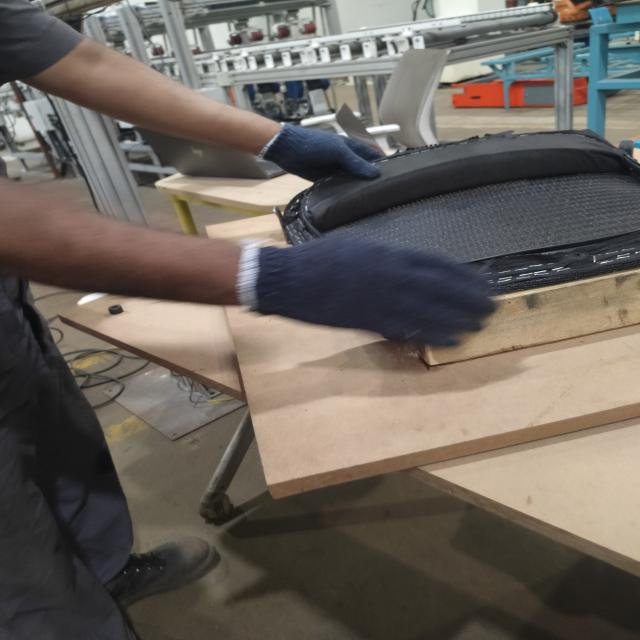Gloves-Detection: (236, 235, 496, 349), (248, 114, 382, 186)
